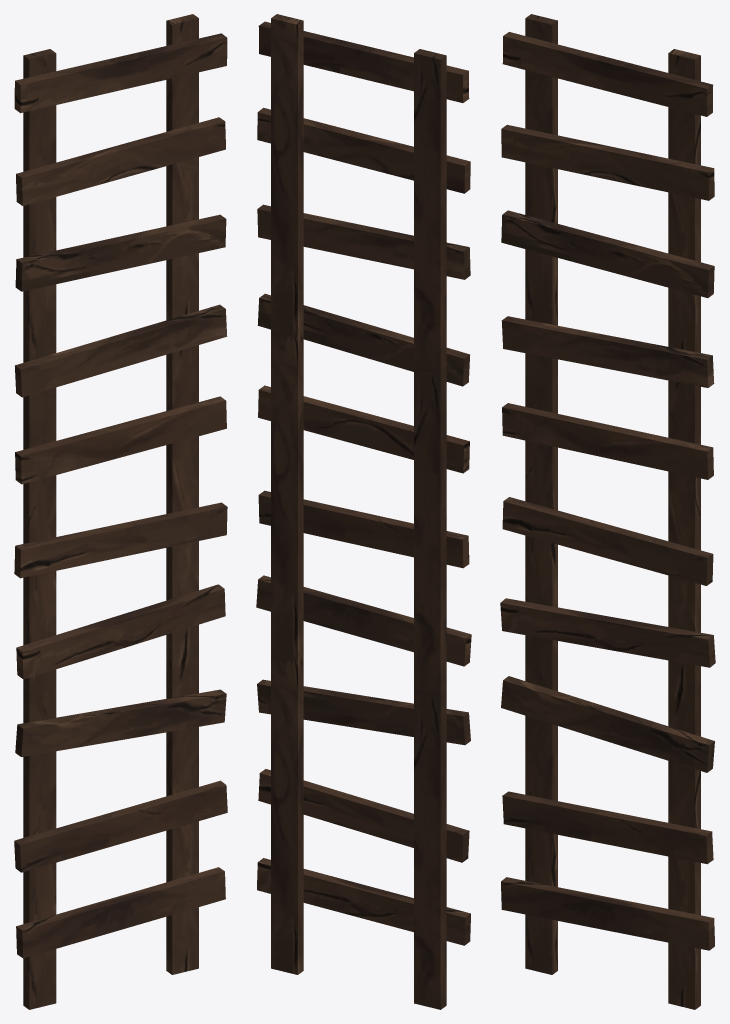
Rendered from Long ladder.fbx.
The picture shows the model from 3 angles, left to right: view 1: azimuth 30°, elevation 25°; view 2: azimuth 150°, elevation 25°; view 3: azimuth 330°, elevation 25°; orthographic projection.
Parts seen in each view (by area): view 1: Long_ladder1; view 2: Long_ladder1; view 3: Long_ladder1.
Part boxes in pixels (x1,y1,x2,y2): Long_ladder1: (14, 14, 227, 1009); Long_ladder1: (256, 14, 471, 1009); Long_ladder1: (500, 14, 715, 1009).
Bounding box in the file's own units: 1.16 × 5.07 × 0.1457.
